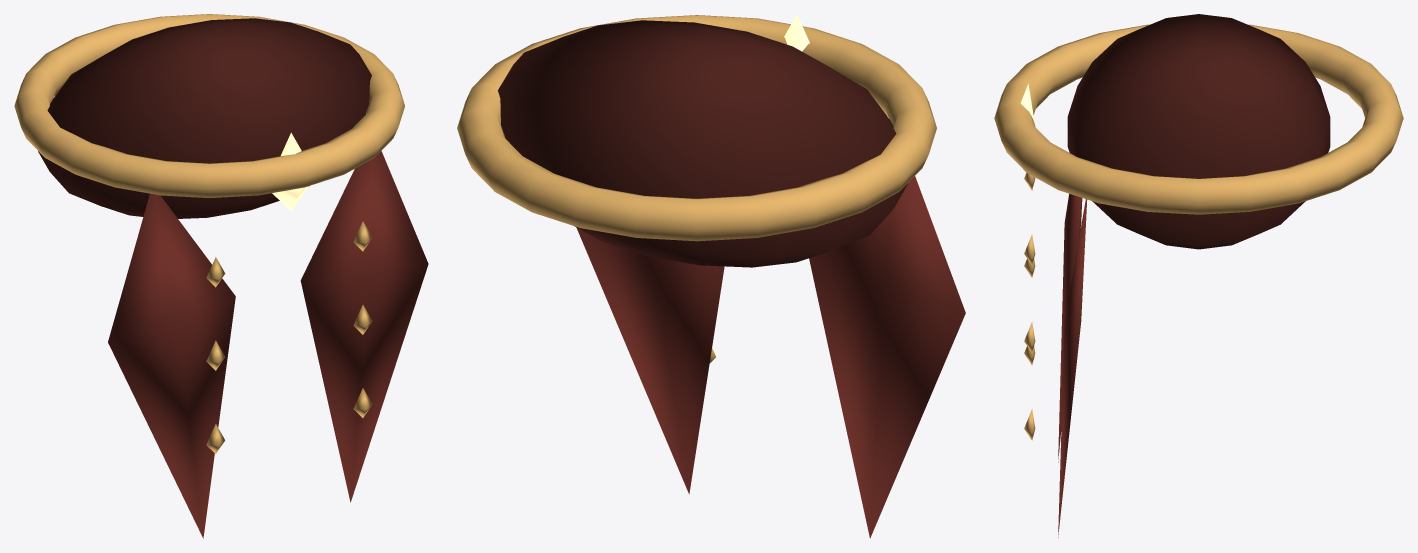
File: boss_dragonforge_inner_garment.glb
3 renders of one model, left to right at view 1: azimuth 30°, elevation 25°; view 2: azimuth 150°, elevation 25°; view 3: azimuth 270°, elevation 25°, orthographic. The views are drawn at different scales.
Parts seen in each view (by area): view 1: Boss_dragonforge_0, Boss_dragonforge_3, Boss_dragonforge_1, Boss_dragonforge_2; view 2: Boss_dragonforge_3, Boss_dragonforge_0, Boss_dragonforge_1; view 3: Boss_dragonforge_3, Boss_dragonforge_1, Boss_dragonforge_0.
Boxes of the visible parts, <box> form: Boss_dragonforge_0: <box>108,151,428,538</box>; Boss_dragonforge_3: <box>38,18,371,218</box>; Boss_dragonforge_1: <box>14,14,404,453</box>; Boss_dragonforge_2: <box>272,132,308,211</box>; Boss_dragonforge_3: <box>498,20,908,267</box>; Boss_dragonforge_0: <box>576,176,965,538</box>; Boss_dragonforge_1: <box>457,15,936,363</box>; Boss_dragonforge_3: <box>1067,14,1330,249</box>; Boss_dragonforge_1: <box>994,24,1403,440</box>; Boss_dragonforge_0: <box>1058,194,1086,537</box>.
Size of the model in its own units: 0.552 by 0.675 by 0.552.
